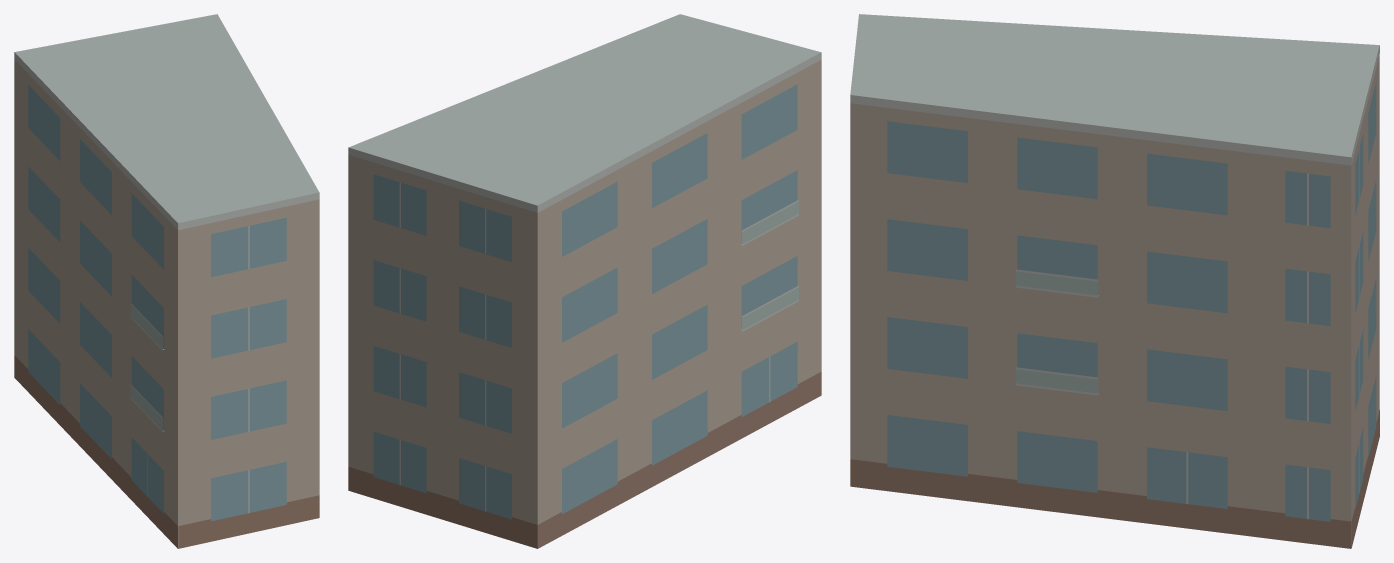
The model's file is survey-upis-32938965.glb.
3 renders of one model, left to right at view 1: azimuth 30°, elevation 25°; view 2: azimuth 150°, elevation 25°; view 3: azimuth 270°, elevation 25°, orthographic. The views are drawn at different scales.
Visible parts, largest first — view 1: survey-upis-32938965.tmp; view 2: survey-upis-32938965.tmp; view 3: survey-upis-32938965.tmp.
Boxes of the visible parts, <box> form: survey-upis-32938965.tmp: <box>14,14,319,548</box>; survey-upis-32938965.tmp: <box>348,14,821,548</box>; survey-upis-32938965.tmp: <box>850,14,1379,548</box>.
Size of the model in its own units: 9.04 by 11.5 by 14.11.
